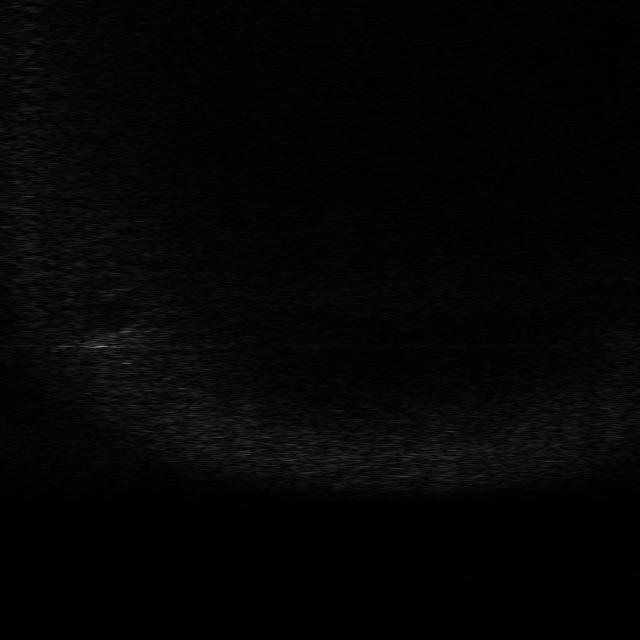plane: (70, 322, 139, 358)
